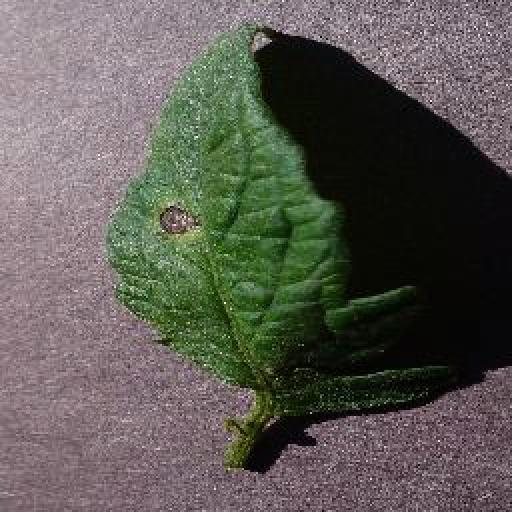disease_tomato: (107, 18, 436, 410)
